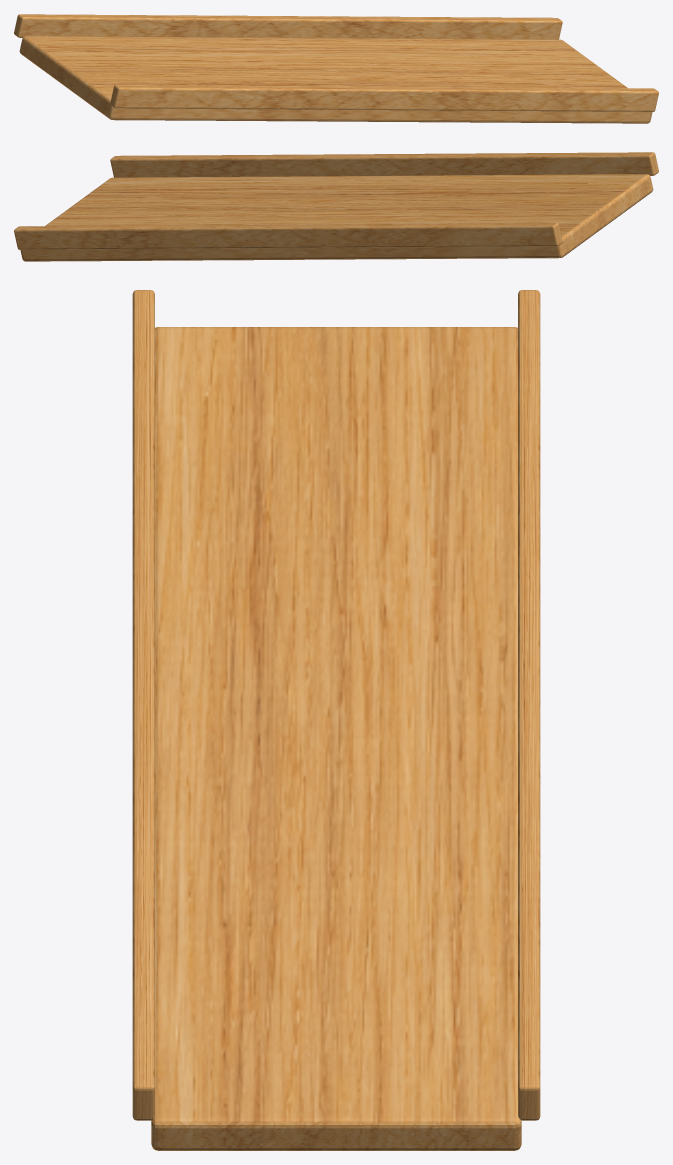
File: ramp.glb
3 renders of one model, top to bottom at view 1: azimuth 30°, elevation 25°; view 2: azimuth 150°, elevation 25°; view 3: azimuth 270°, elevation 25°, orthographic. The views are drawn at different scales.
Visible parts, largest first — view 1: Ramp_Surface, Ramp_Rail, Ramp_Rail.001; view 2: Ramp_Surface, Ramp_Rail.001, Ramp_Rail; view 3: Ramp_Surface, Ramp_Rail, Ramp_Rail.001.
Boxes of the visible parts, box(x1,y1,x2,y2) form: Ramp_Surface: box(19, 36, 652, 123); Ramp_Rail: box(110, 85, 658, 111); Ramp_Rail.001: box(14, 14, 562, 39); Ramp_Surface: box(20, 174, 653, 261); Ramp_Rail.001: box(14, 223, 562, 249); Ramp_Rail: box(110, 152, 658, 177); Ramp_Surface: box(151, 327, 521, 1150); Ramp_Rail: box(132, 290, 154, 1120); Ramp_Rail.001: box(518, 290, 540, 1120).
Size of the model in its own units: 5.09 by 1.52 by 1.65.
Materials: 2 (2 with a texture image).
